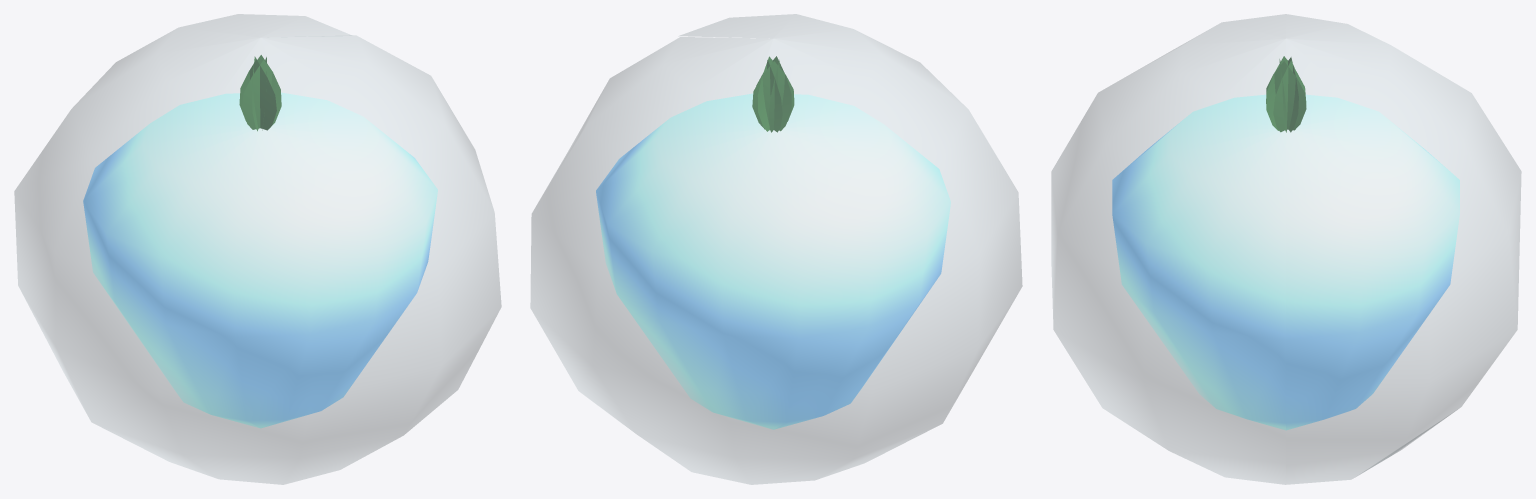
The model's file is fruit-strawberry-frozen.gltf.
3 renders of one model, left to right at view 1: azimuth 30°, elevation 25°; view 2: azimuth 150°, elevation 25°; view 3: azimuth 270°, elevation 25°, orthographic.
Bounding box in the file's own units: 0.3436 × 0.3304 × 0.332.
